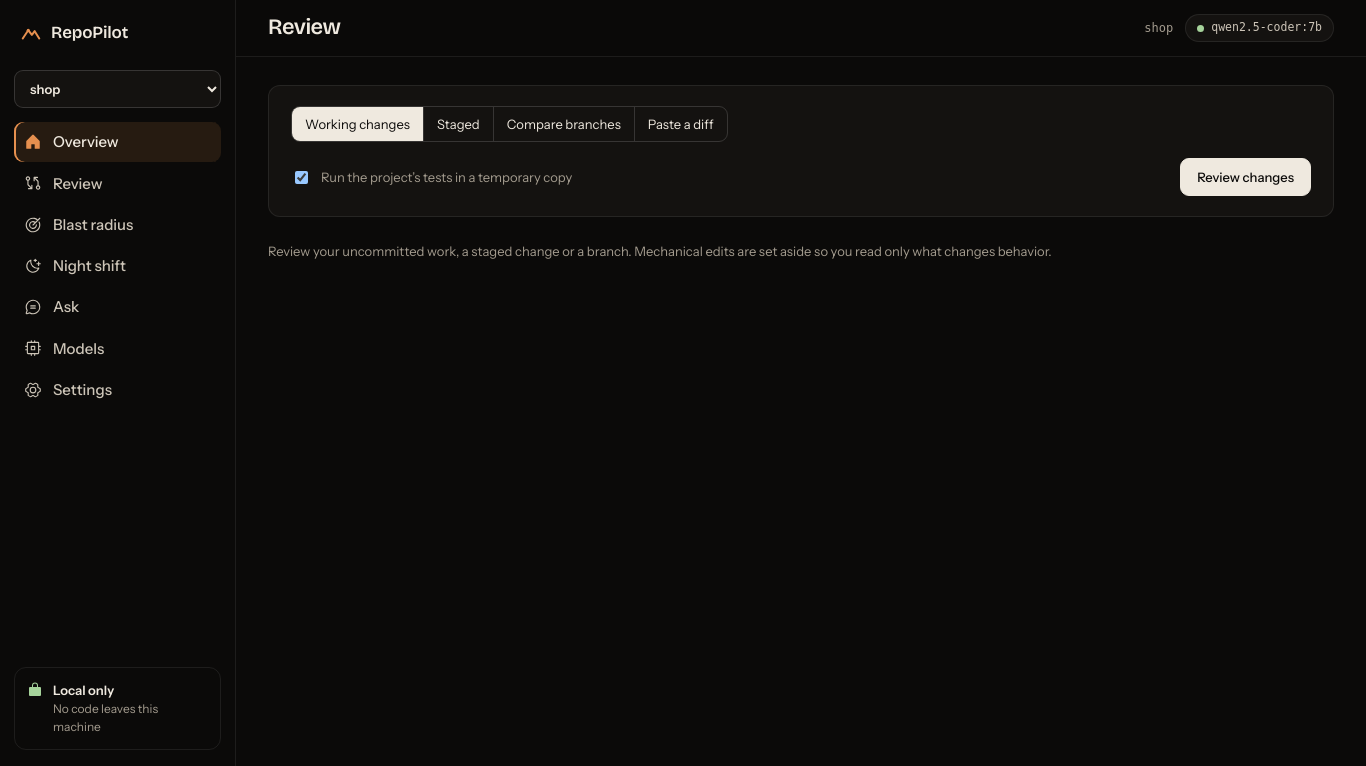
pages › Review runs a review and shows what to read
Click the button "Review changes" at x=1246, y=177, box [1180,158,1311,196]
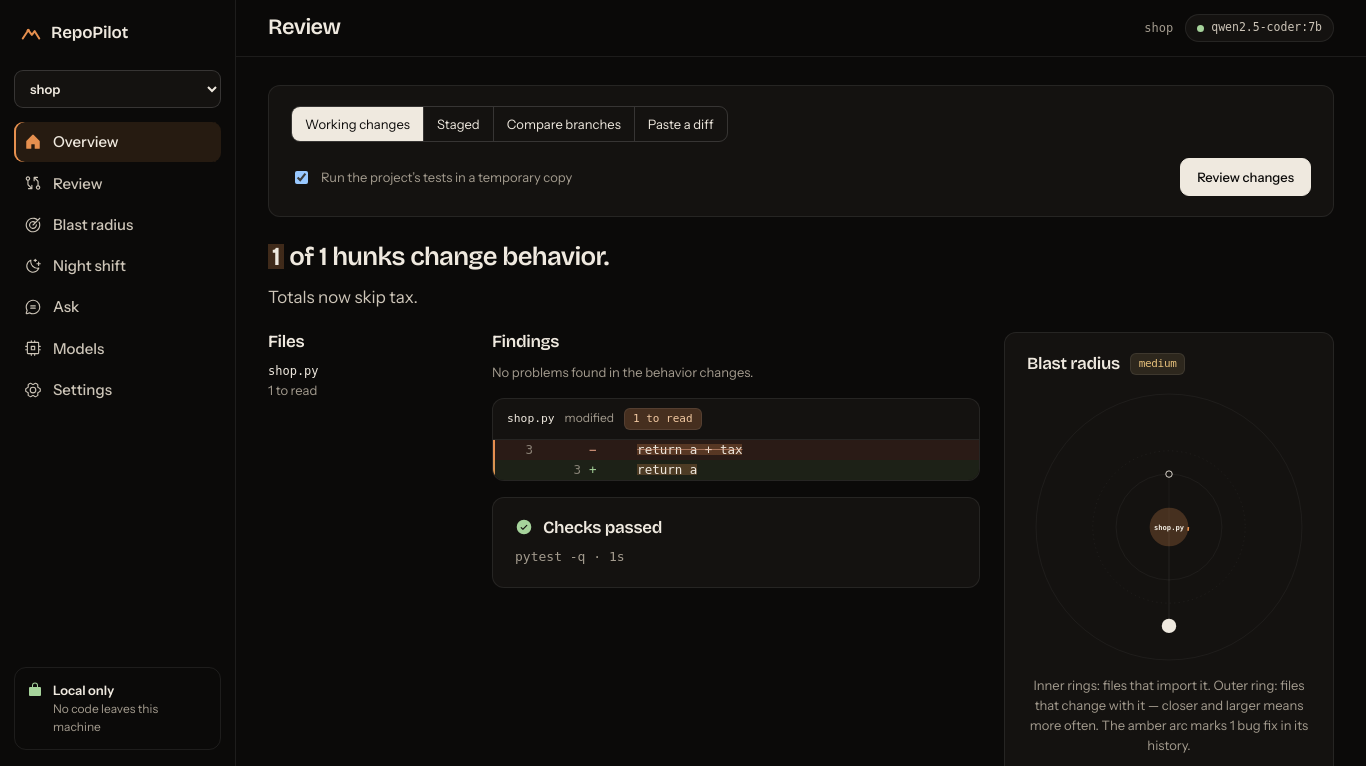
Expected: the text "1 of 1 hunks change behavior." is shown, [268,241,609,272]
Expected: the text "Totals now skip tax." is shown, [268,287,418,307]
